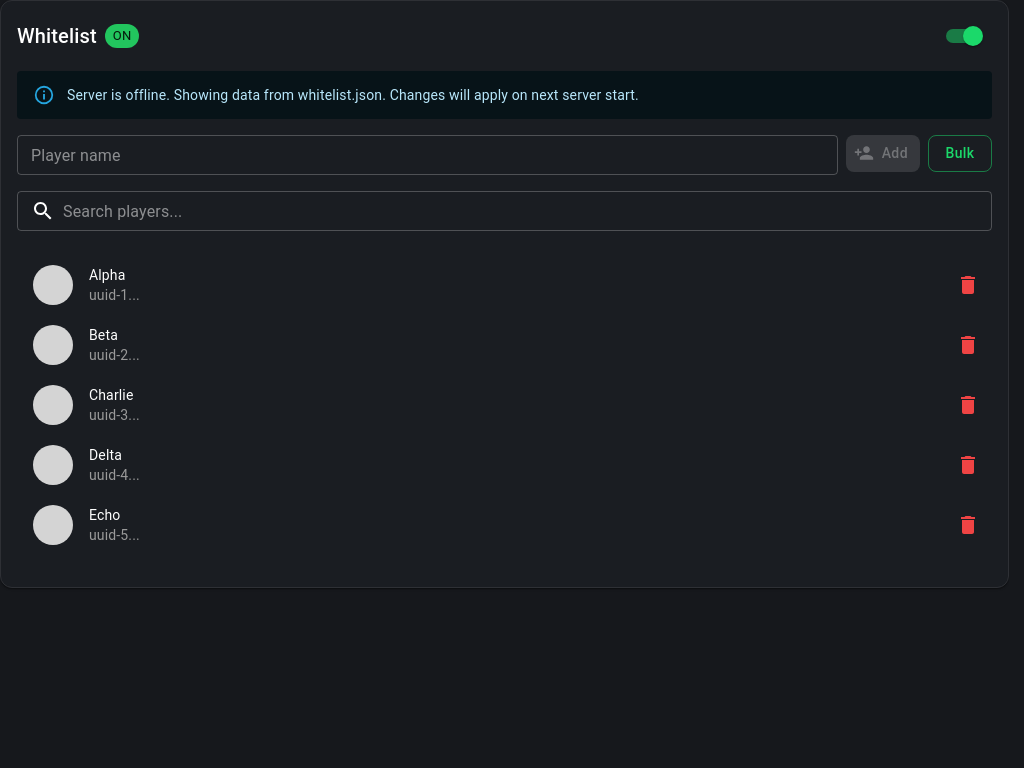
Test: WhitelistManager › Search/Filter › should filter players by search query
The width and height of the screenshot is (1024, 768).
Step 1. Type "alp" into the field with placeholder "Search players..." → (528, 211), box [63,191,992,231]
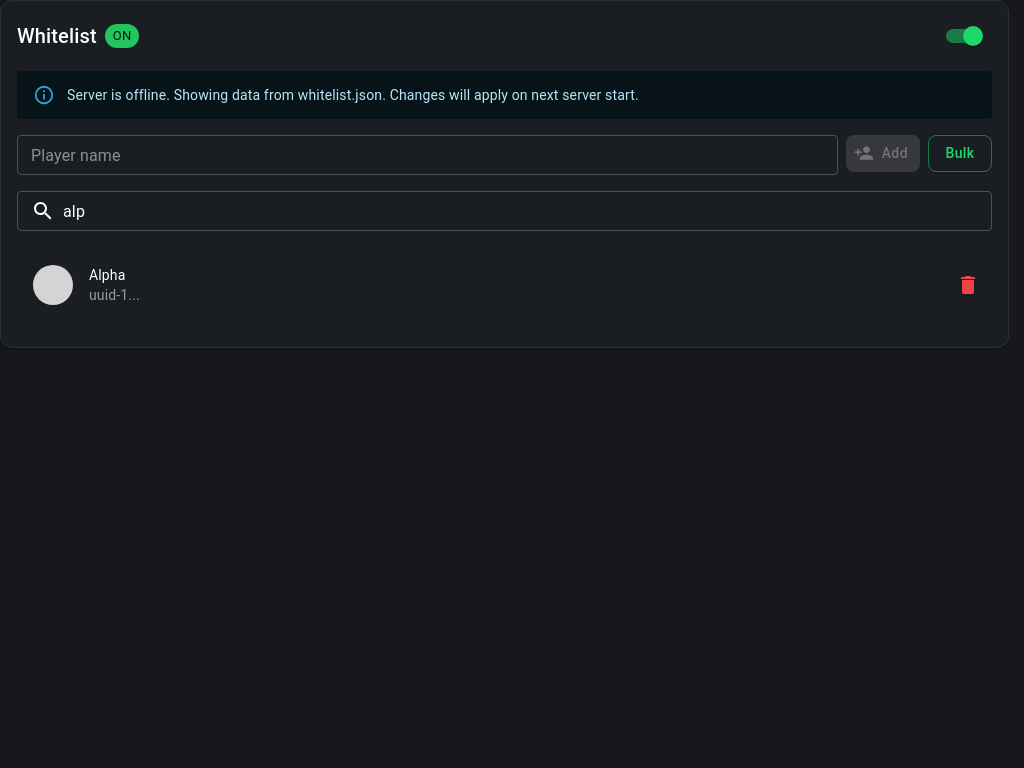
Expected: the text "Alpha" is shown, [89,267,126,283]
Expected: the text "Beta" is gone
Expected: the text "Charlie" is gone
